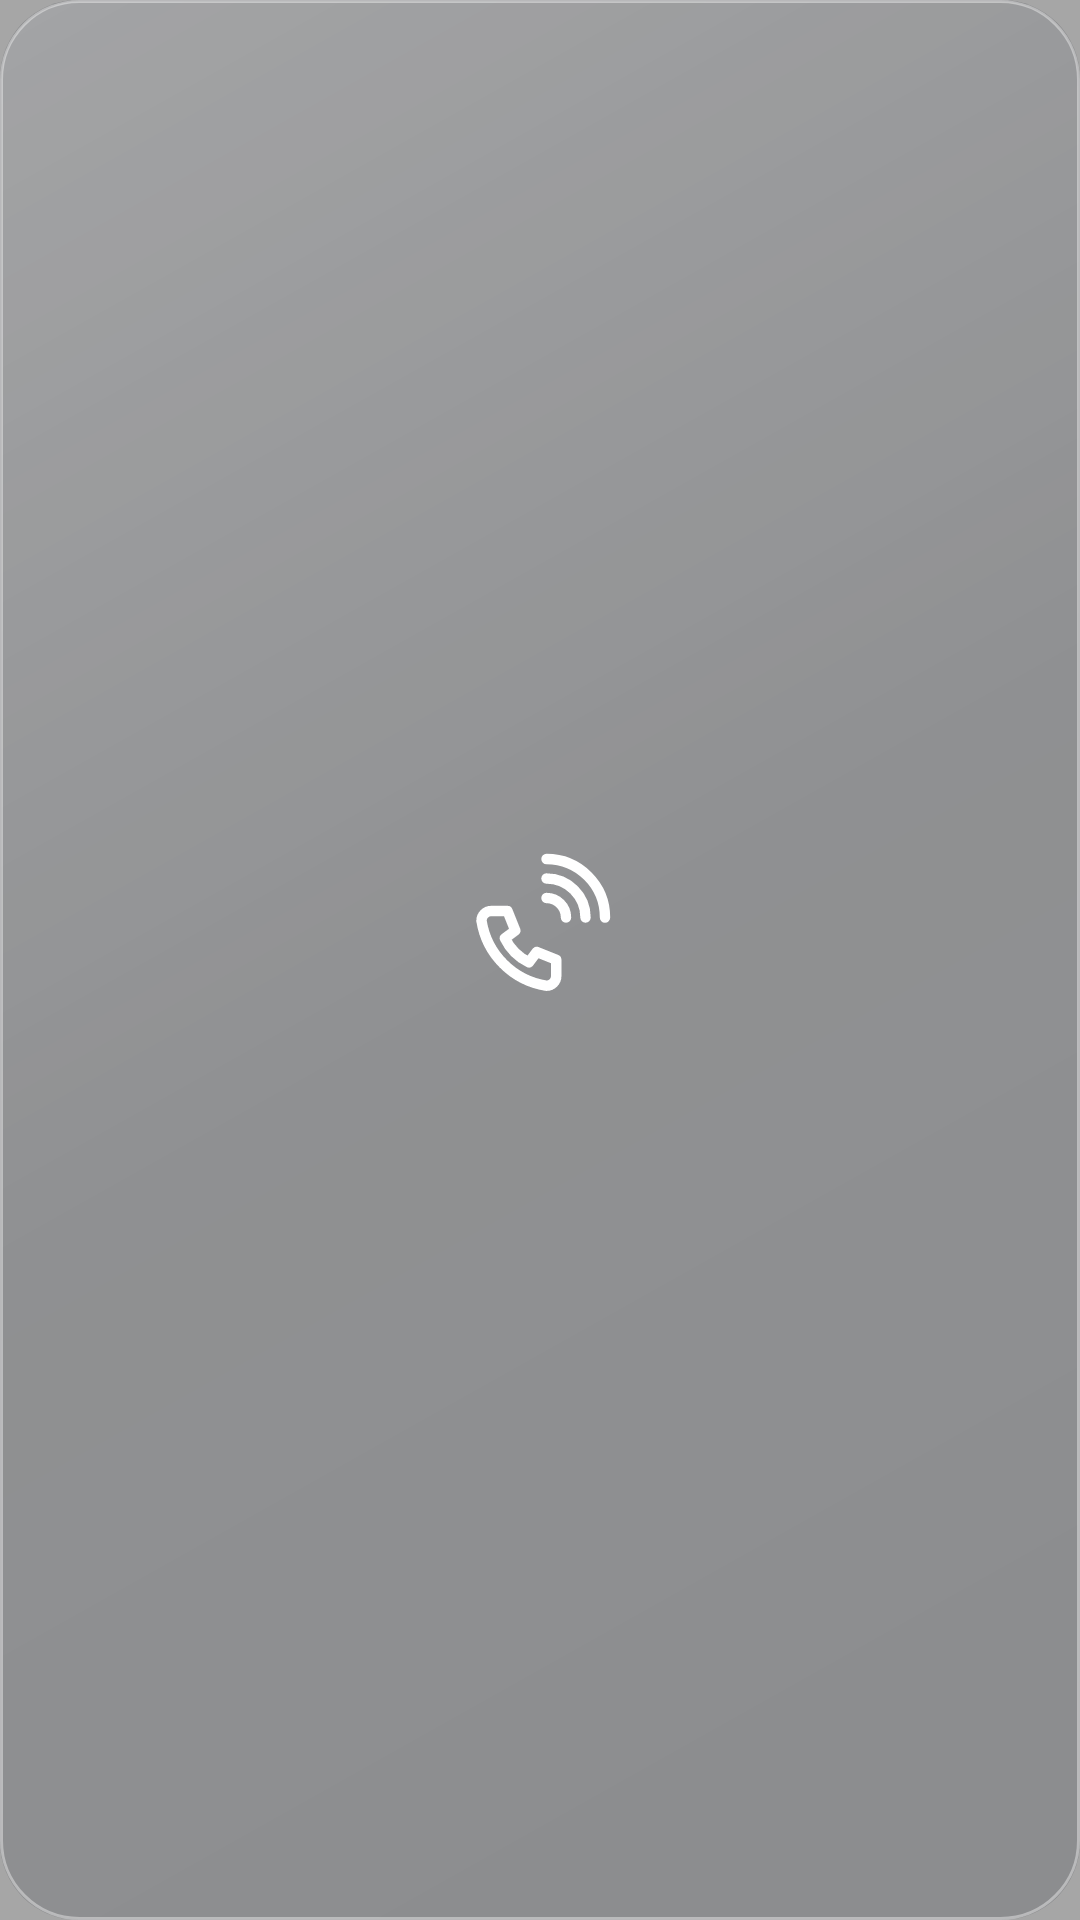

Icon click points for this 1080x1920 phone screenshot, format [x,y]:
Wi-Fi Calling status: [543,922]
